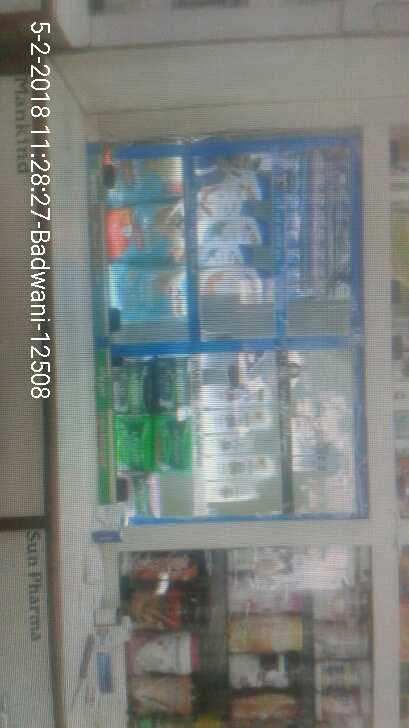beauty: (196, 166, 263, 202), (194, 382, 271, 409), (197, 241, 260, 272), (200, 408, 270, 434), (198, 269, 267, 295), (198, 218, 265, 244), (202, 456, 273, 477), (196, 431, 252, 456), (201, 478, 253, 501)
pharmacy: (104, 260, 186, 319), (102, 207, 189, 260), (99, 156, 187, 206), (113, 412, 153, 474), (150, 354, 190, 414), (112, 356, 151, 412), (154, 413, 190, 469)
